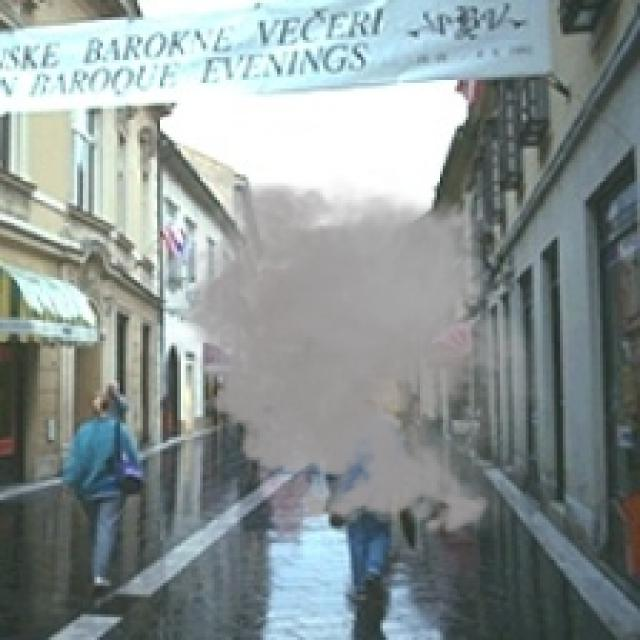smoke: (160, 168, 551, 546)
